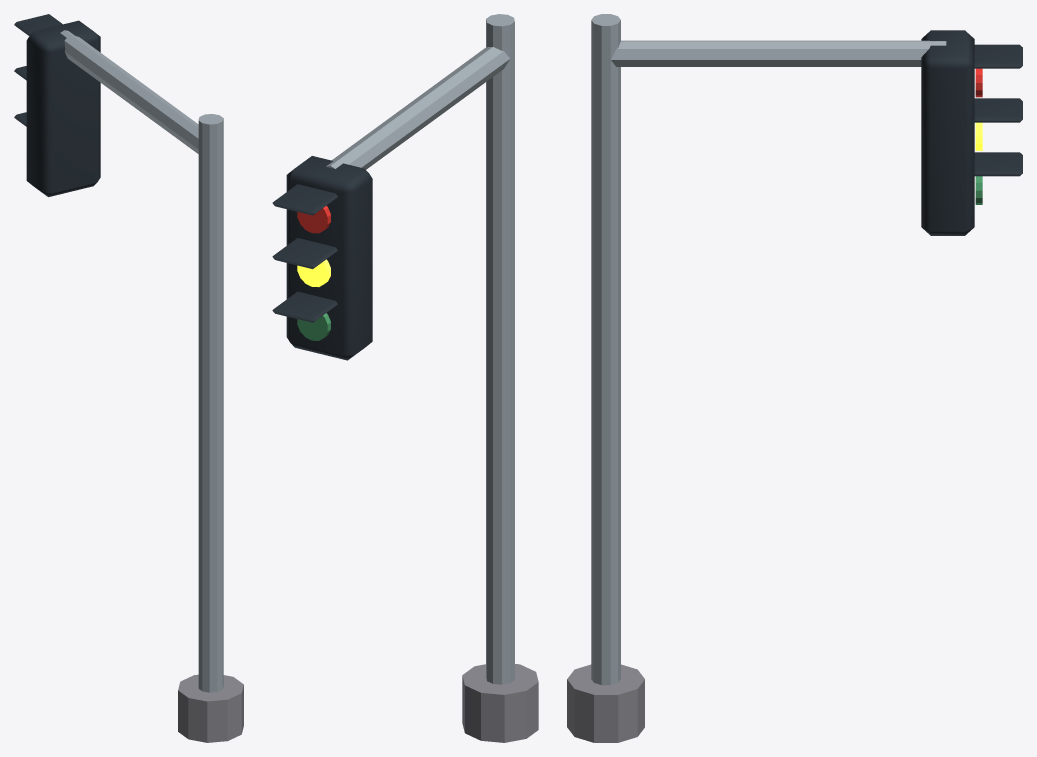
Rendered from trafficlight.glb.
3 renders of one model, left to right at view 1: azimuth 30°, elevation 25°; view 2: azimuth 150°, elevation 25°; view 3: azimuth 270°, elevation 25°, orthographic. The views are drawn at different scales.
Parts seen in each view (by area): view 1: trafficlight_pole, trafficlight_head, trafficlight_arm, trafficlight_base, trafficlight_visor; view 2: trafficlight_pole, trafficlight_head, trafficlight_arm, trafficlight_base, trafficlight_visor, trafficlight_visor.001, trafficlight_visor.002, trafficlight_bulb, trafficlight_bulb.001, trafficlight_bulb.002; view 3: trafficlight_pole, trafficlight_head, trafficlight_arm, trafficlight_base, trafficlight_visor, trafficlight_visor.002, trafficlight_visor.001.
Part boxes in pixels (<box>): trafficlight_pole: <box>198,114,223,692</box>; trafficlight_head: <box>26,20,100,197</box>; trafficlight_arm: <box>60,30,198,153</box>; trafficlight_base: <box>178,674,243,742</box>; trafficlight_visor: <box>14,14,62,35</box>; trafficlight_pole: <box>486,14,514,684</box>; trafficlight_head: <box>286,156,372,360</box>; trafficlight_arm: <box>326,47,509,169</box>; trafficlight_base: <box>462,664,538,742</box>; trafficlight_visor: <box>272,184,337,215</box>; trafficlight_visor.001: <box>272,238,337,269</box>; trafficlight_visor.002: <box>272,291,337,322</box>; trafficlight_bulb: <box>297,206,330,233</box>; trafficlight_bulb.001: <box>297,259,330,287</box>; trafficlight_bulb.002: <box>297,313,330,340</box>; trafficlight_pole: <box>591,14,620,685</box>; trafficlight_head: <box>921,30,974,235</box>; trafficlight_arm: <box>611,40,946,66</box>; trafficlight_base: <box>567,664,644,742</box>; trafficlight_visor: <box>974,44,1022,68</box>; trafficlight_visor.002: <box>974,152,1022,176</box>; trafficlight_visor.001: <box>974,98,1022,122</box>.
Size of the model in its own units: 0.51 by 5 by 2.92.
